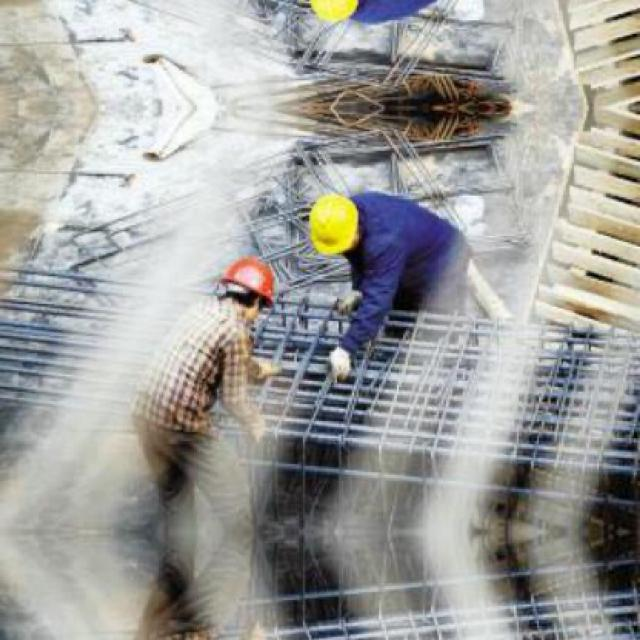helmet: (216, 254, 278, 328), (305, 188, 366, 256), (303, 0, 366, 29)
